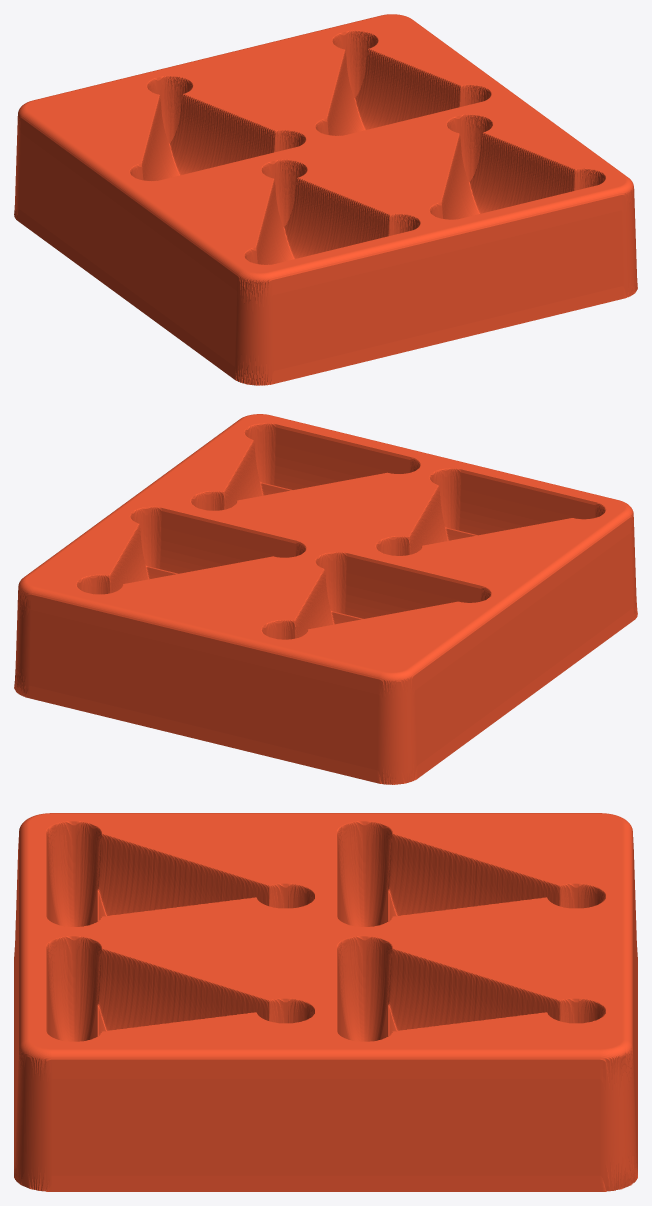
Rendered from mold.glb.
The picture shows the model from 3 angles, top to bottom: view 1: azimuth 30°, elevation 25°; view 2: azimuth 150°, elevation 25°; view 3: azimuth 270°, elevation 25°; orthographic projection. The views are drawn at different scales.
Visible parts, largest first — view 1: geometry_0; view 2: geometry_0; view 3: geometry_0.
Boxes of the visible parts, bbox=[...] form: geometry_0: bbox=[14, 14, 637, 385]; geometry_0: bbox=[14, 414, 637, 784]; geometry_0: bbox=[14, 813, 637, 1191].
Size of the model in its own units: 0.1402 by 0.036 by 0.1493.
